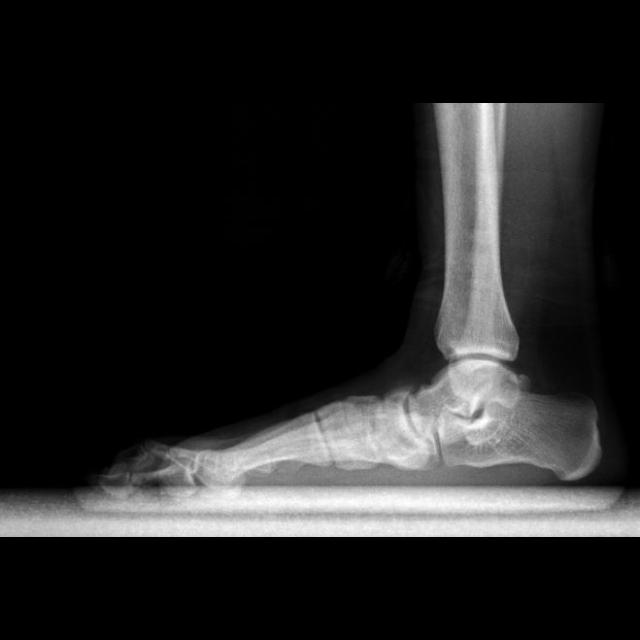a: (438, 390, 601, 480)
b: (372, 390, 433, 471)
c: (196, 411, 334, 502)
